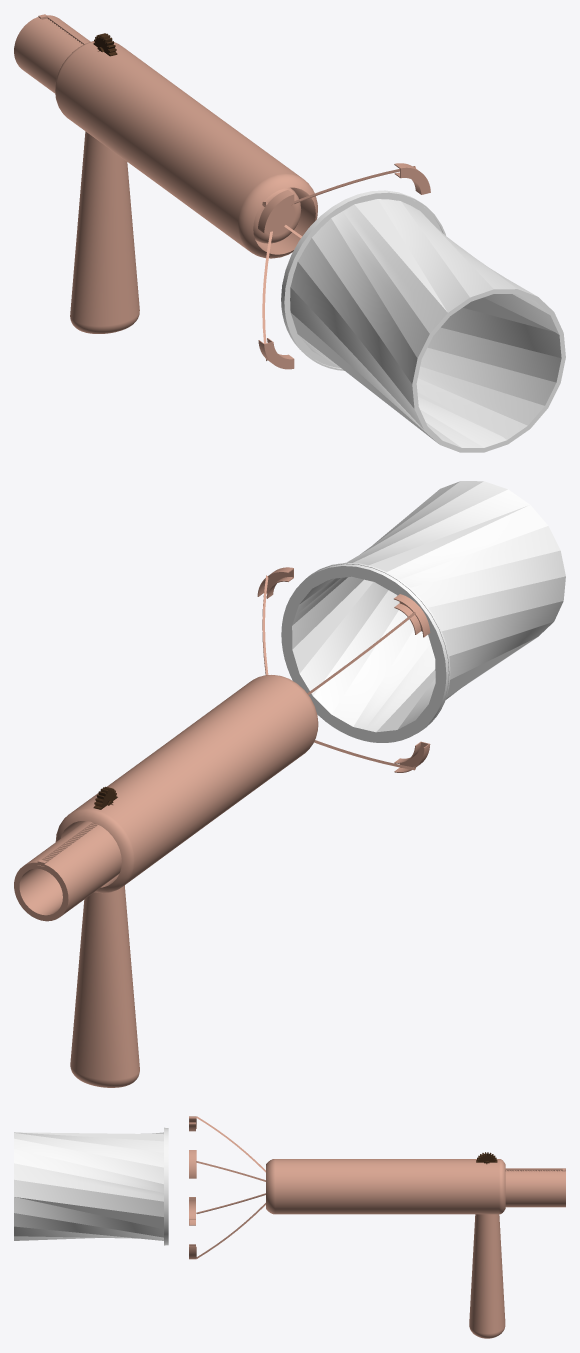
The model's file is speculum.gltf.
3 renders of one model, top to bottom at view 1: azimuth 30°, elevation 25°; view 2: azimuth 150°, elevation 25°; view 3: azimuth 270°, elevation 25°, orthographic. The views are drawn at different scales.
Parts seen in each view (by area): view 1: Body4.001, Body4, Body1.002, Main Body (1).002, Body77, Body81, Body75; view 2: Body4.001, Body4, Body1.002, Main Body (1).002; view 3: Body4.001, Body4, Body1.002, Main Body (1).002.
Part boxes in pixels (left/top/right/bottom): Body4.001: left=281, top=190, right=565, bottom=452; Body4: left=55, top=41, right=317, bottom=258; Body1.002: left=70, top=131, right=139, bottom=333; Main Body (1).002: left=14, top=15, right=301, bottom=243; Body77: left=258, top=190, right=294, bottom=233; Body81: left=394, top=163, right=430, bottom=194; Body75: left=258, top=338, right=294, bottom=369; Body4.001: left=281, top=481, right=565, bottom=742; Body4: left=55, top=675, right=318, bottom=893; Body1.002: left=70, top=885, right=139, bottom=1087; Main Body (1).002: left=14, top=821, right=121, bottom=921; Body4.001: left=14, top=1127, right=168, bottom=1245; Body4: left=266, top=1159, right=505, bottom=1214; Body1.002: left=469, top=1214, right=505, bottom=1338; Main Body (1).002: left=505, top=1168, right=565, bottom=1207.
Bounding box in the file's own units: 2.11 × 3.89 × 9.81.
